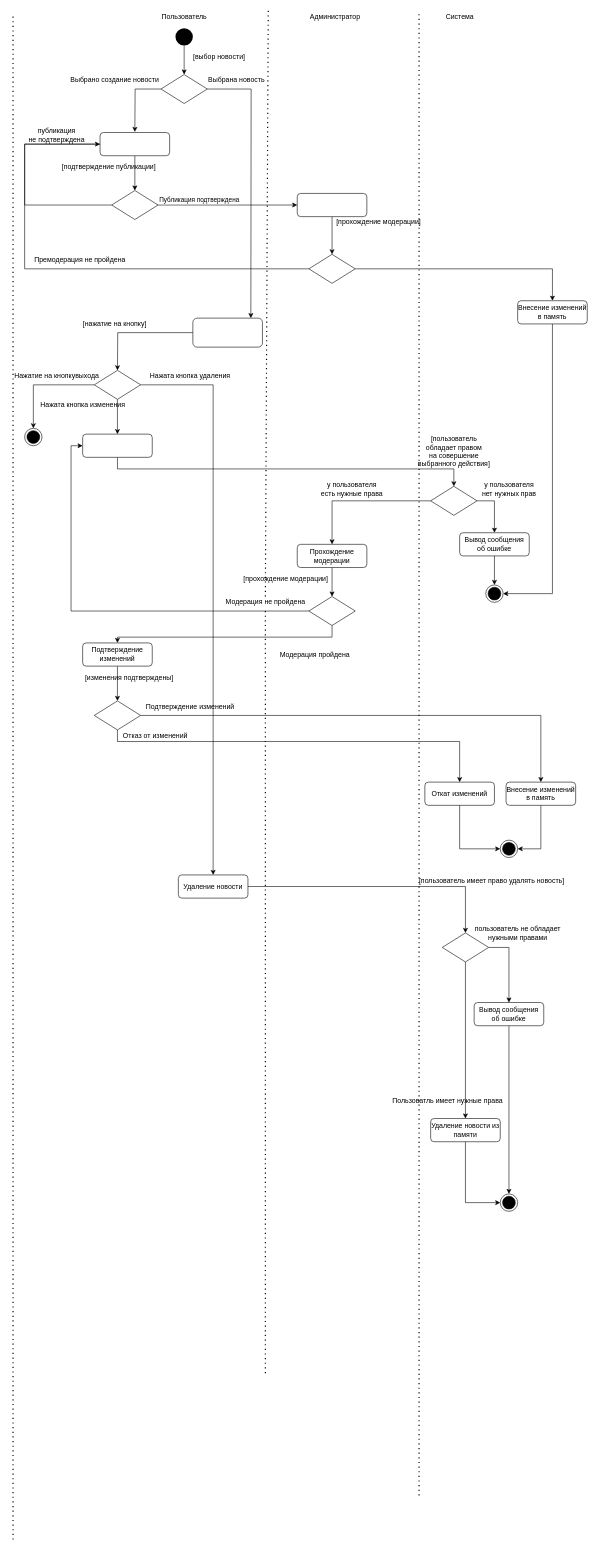
This 597x1550 diagram has some shape labels left out. The shapes that lost their labels are listed below. From the top down, each one's centre as x and y in pixels, then its label:
pixel 134 144: Написание текста
pixel 332 205: Премодерация создаваемой новости
pixel 227 332: Чтение новости
pixel 117 445: Изменение текста новости
